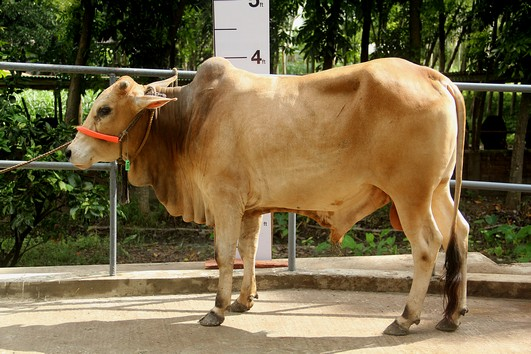cow: (62, 50, 476, 338)
